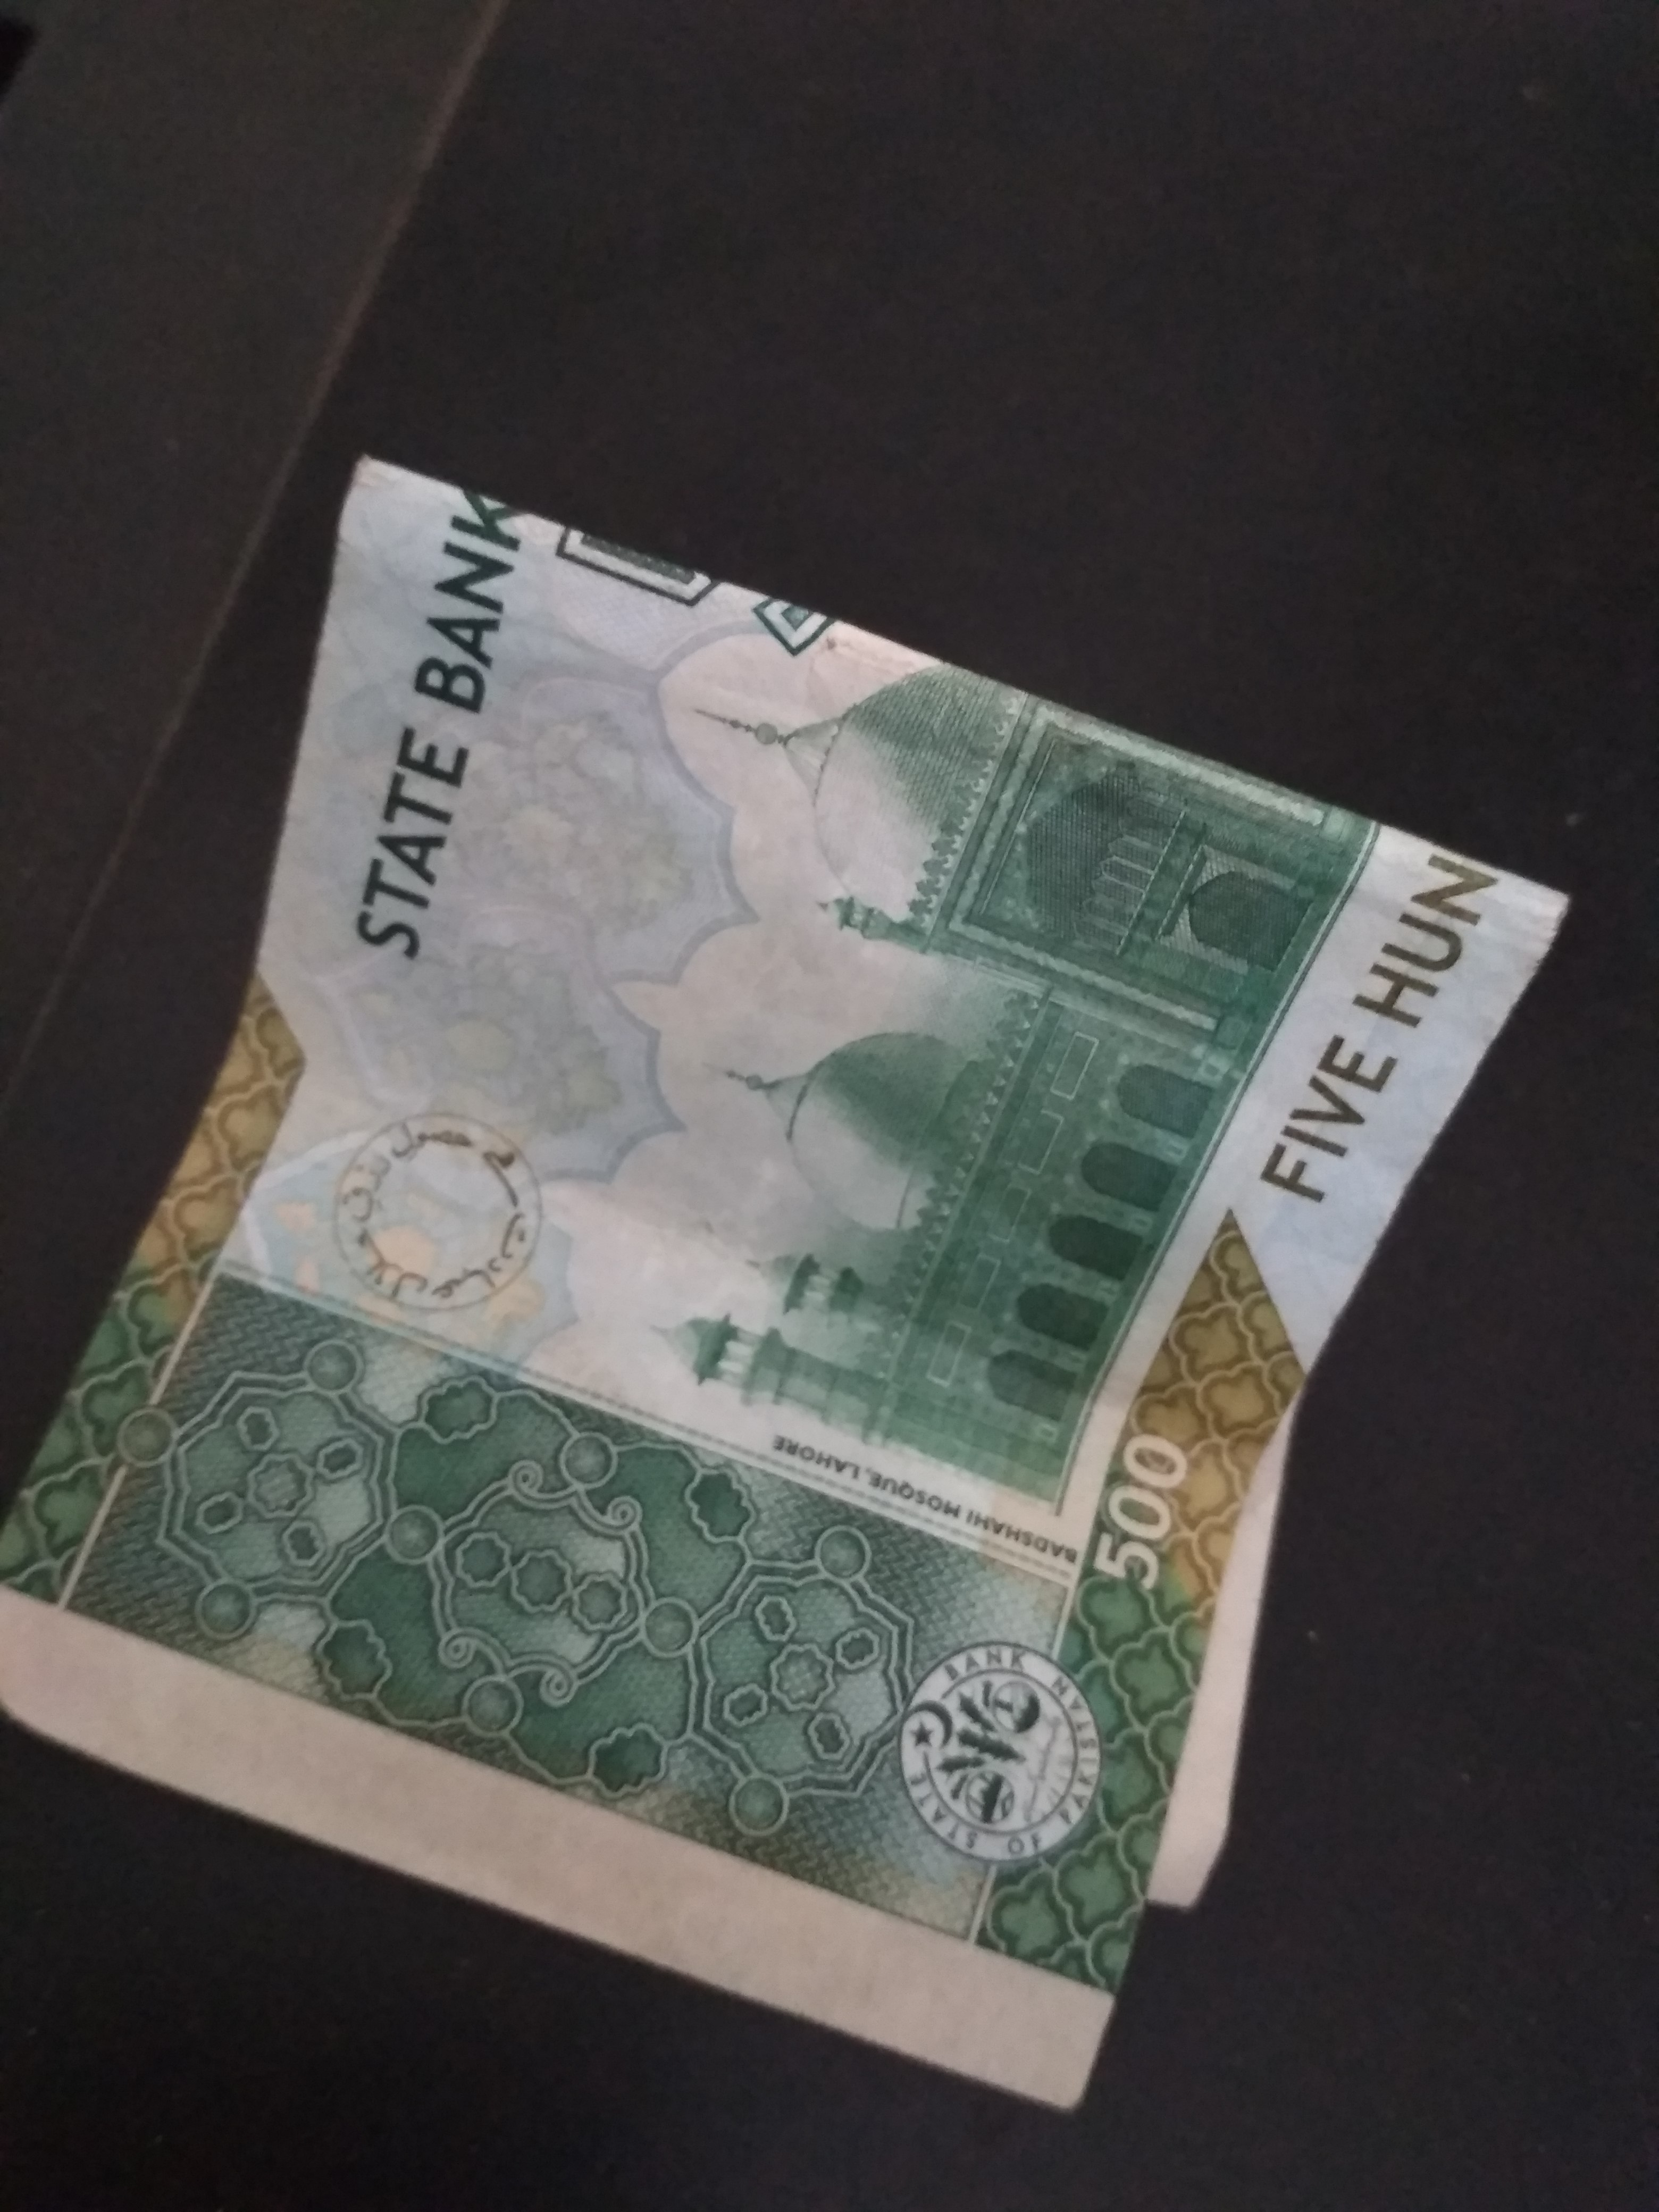500 rupee: (16, 451, 1605, 2085)
